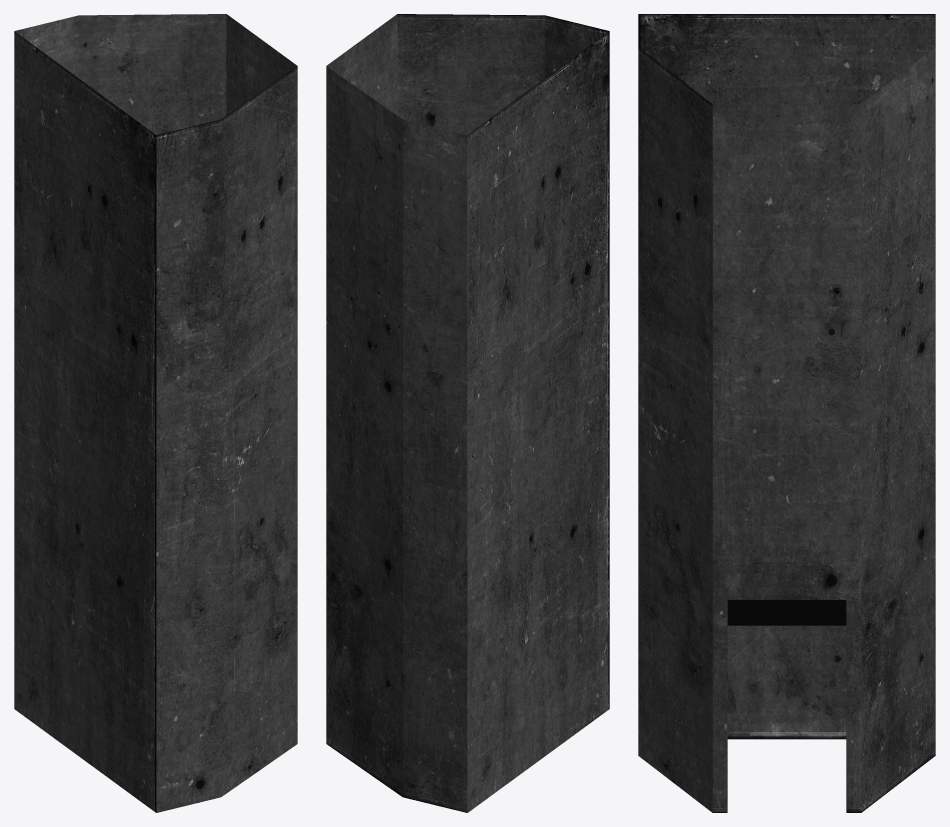
The model's file is 106_Cell.fbx.
3 views of the same model, side by side, from view 1: azimuth 30°, elevation 25°; view 2: azimuth 150°, elevation 25°; view 3: azimuth 270°, elevation 25° (orthographic). The views are drawn at different scales.
Visible parts, largest first — view 1: Cell; view 2: Cell; view 3: Cell, Door.
Boxes of the visible parts, x1=… form: Cell: x1=14, y1=14, x2=297, y2=812; Cell: x1=326, y1=14, x2=609, y2=812; Cell: x1=638, y1=14, x2=935, y2=812; Door: x1=727, y1=600, x2=846, y2=625.
Bounding box in the file's own units: 2.73 × 10 × 3.8.
